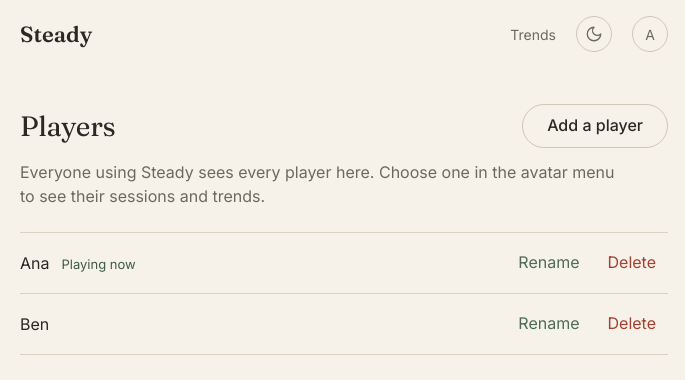
Player names on the server (Spec 013) › keeps the old name and says so when a rename fails
The image size is (685, 380).
Click the button with aria-label "Rename Ben": (549, 324) left=506, top=302, right=592, bottom=346
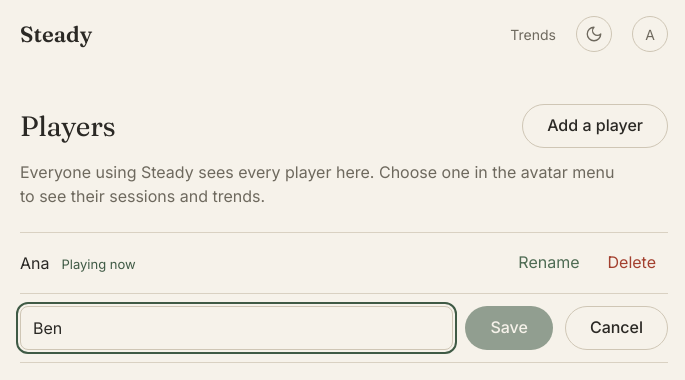
Replace the text in the field named "name" with "Benji": (237, 328) left=20, top=306, right=453, bottom=350
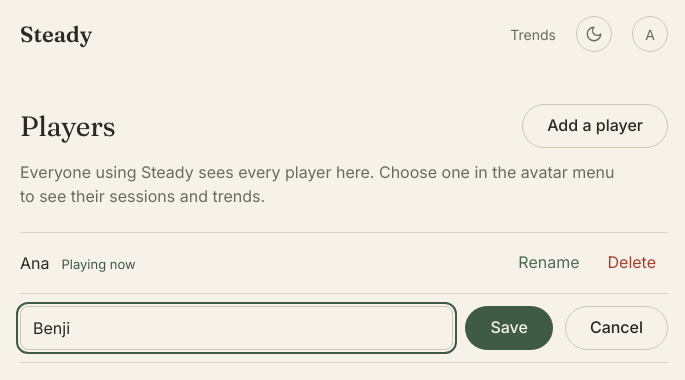
Click the button "Save": (509, 328) left=465, top=306, right=553, bottom=350
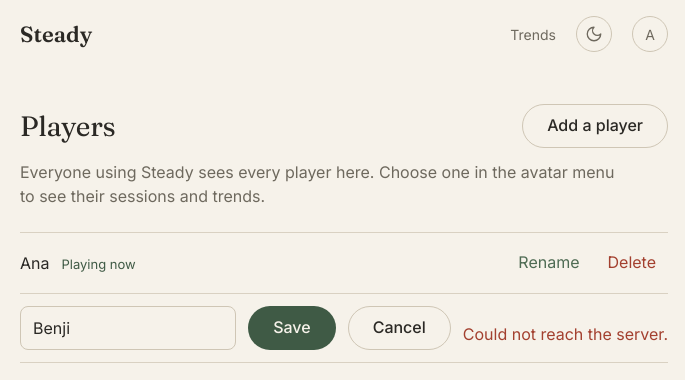
Result: the message shows "Could not reach the server" at left=463, top=324, right=668, bottom=344
Click the button "Cancel": (399, 328) left=348, top=306, right=451, bottom=350
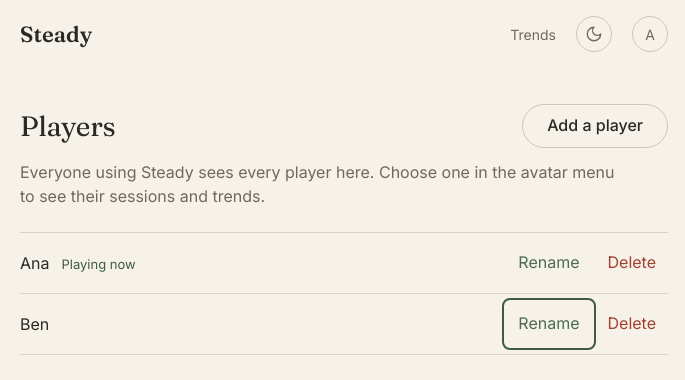
Expected: the text "Benji" is not shown
Result: the text "Ben" is shown at left=20, top=312, right=49, bottom=336
